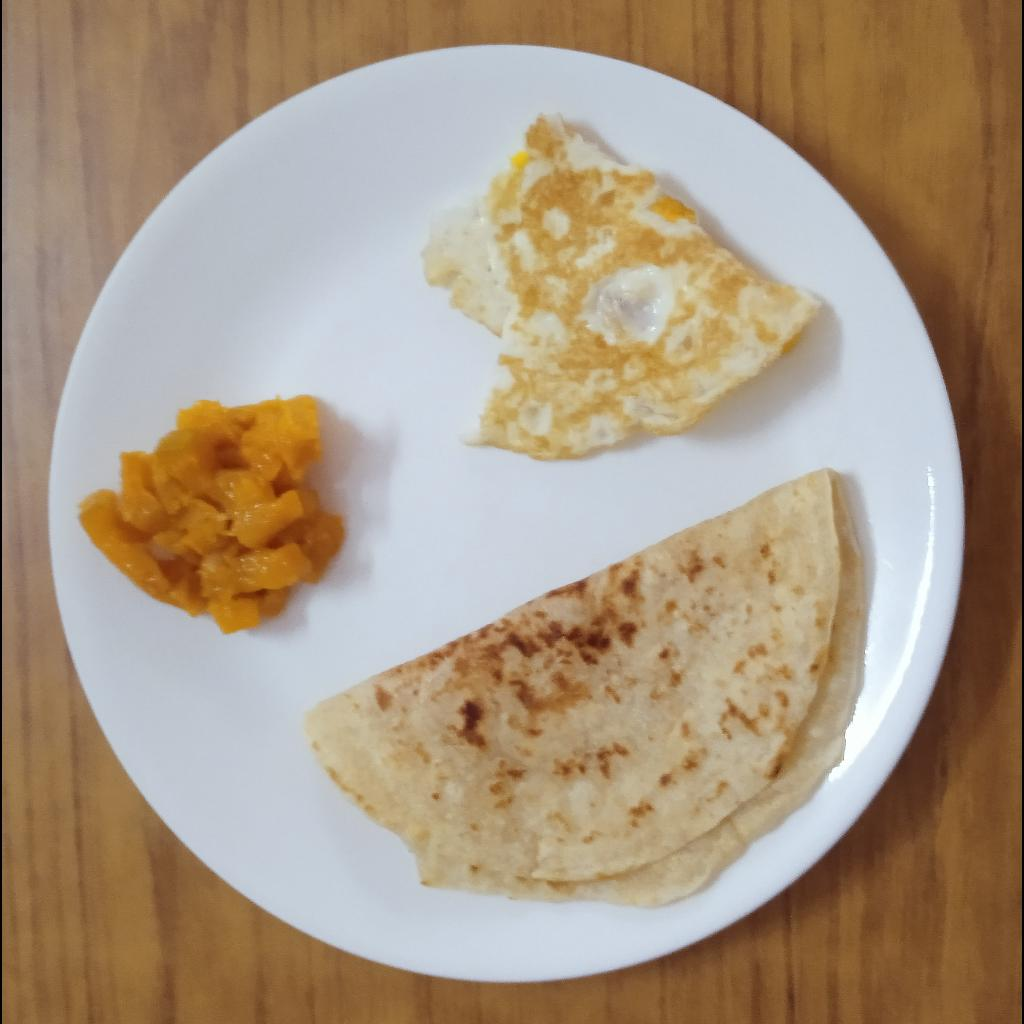egg-poached: (420, 108, 830, 462)
kumra-vaji: (82, 393, 344, 638)
ruti: (301, 467, 872, 910)
